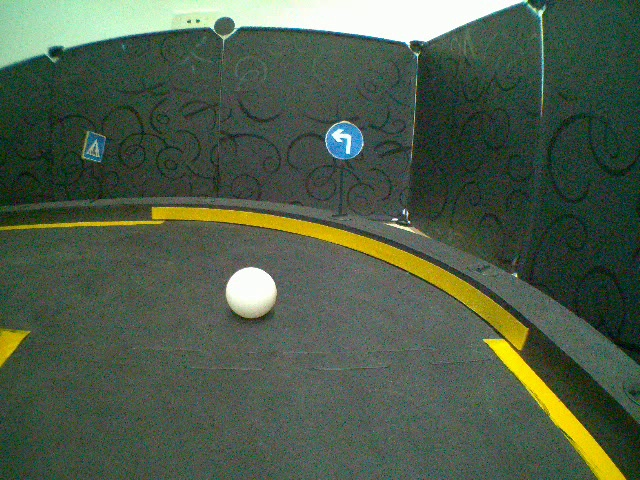ball: (225, 266, 279, 321)
